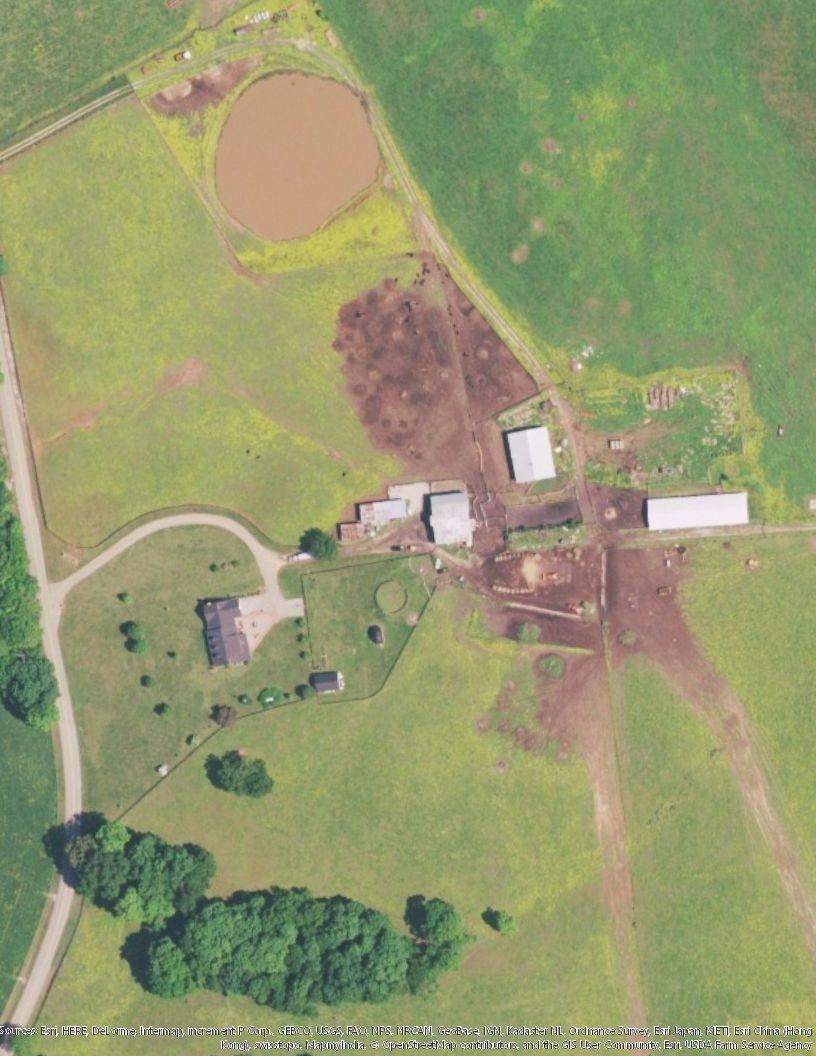cafo: (330, 475, 480, 551), (638, 495, 755, 533)
